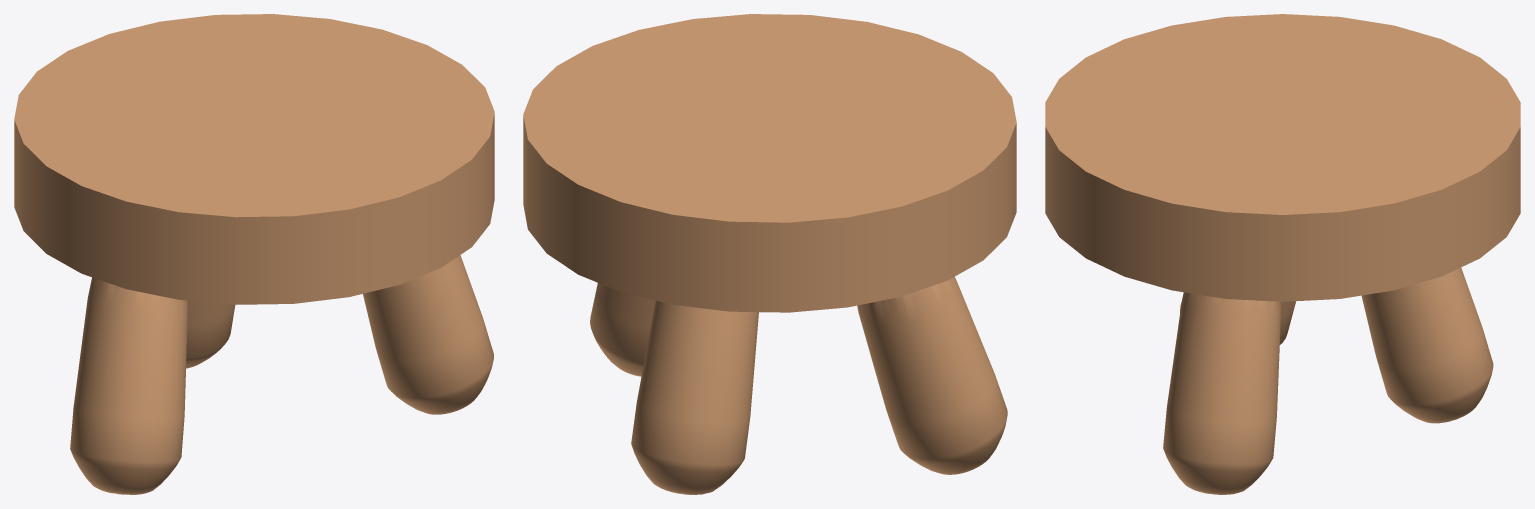
Rendered from mini chair.fbx.
3 renders of one model, left to right at view 1: azimuth 30°, elevation 25°; view 2: azimuth 150°, elevation 25°; view 3: azimuth 270°, elevation 25°, orthographic. The views are drawn at different scales.
Visible parts, largest first — view 1: Cylinder010; view 2: Cylinder010; view 3: Cylinder010.
Boxes of the visible parts, <box> form: Cylinder010: <box>14,14,494,494</box>; Cylinder010: <box>523,14,1016,494</box>; Cylinder010: <box>1045,14,1520,494</box>.
Bounding box in the file's own units: 99.44 × 73.43 × 99.34.
